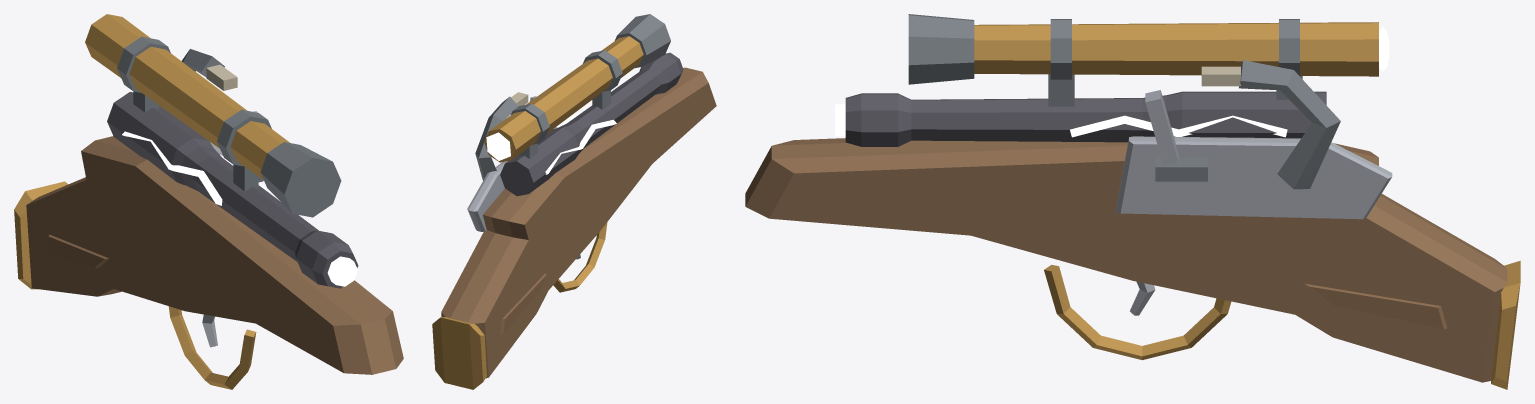
The model's file is gun-long-gun.glb.
3 renders of one model, left to right at view 1: azimuth 30°, elevation 25°; view 2: azimuth 150°, elevation 25°; view 3: azimuth 270°, elevation 25°, orthographic. The views are drawn at different scales.
Visible parts, largest first — view 1: gun-long-gun, pulse_vein; view 2: gun-long-gun, pulse_vein; view 3: gun-long-gun, pulse_vein.
Boxes of the visible parts, x1,y1,x2,y2 form: gun-long-gun: (14,14,403,389); pulse_vein: (122,131,265,205); gun-long-gun: (432,14,716,389); pulse_vein: (545,112,616,174); gun-long-gun: (745,14,1520,389); pulse_vein: (1070,97,1287,137).
Bounding box in the file's own units: 0.093 × 0.305 × 0.5891.
